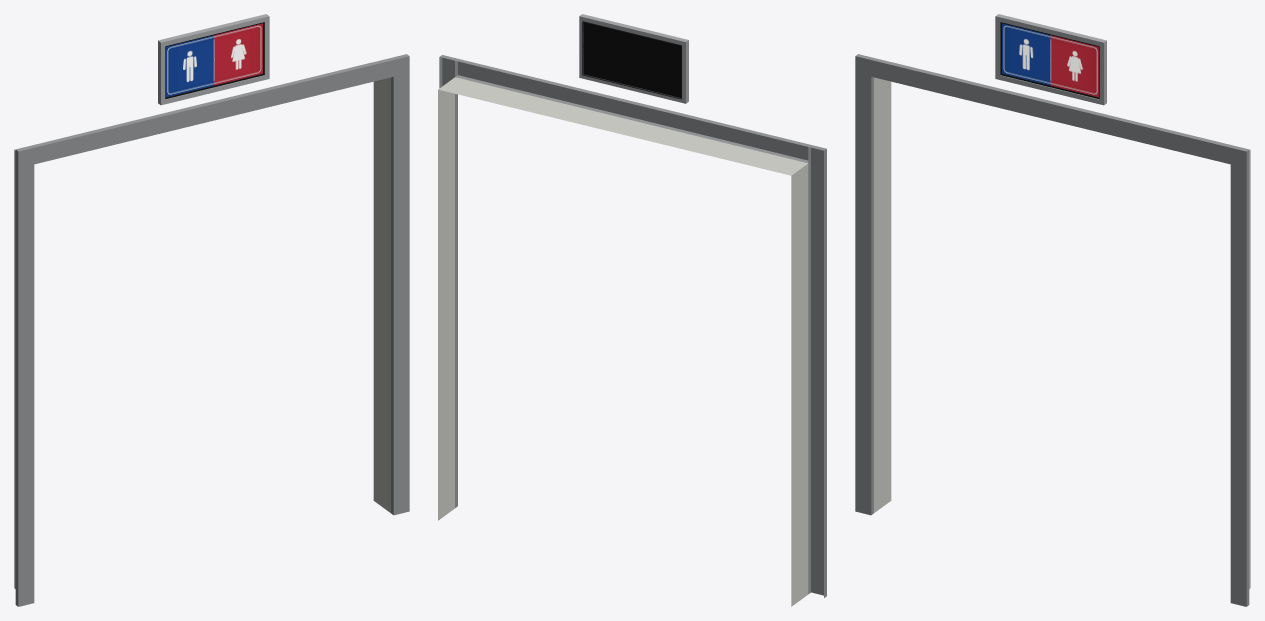
Rendered from gteki_toilet_entrance_pair.glb.
3 renders of one model, left to right at view 1: azimuth 30°, elevation 25°; view 2: azimuth 150°, elevation 25°; view 3: azimuth 330°, elevation 25°, orthographic.
Visible parts, largest first — view 1: VIS_body; view 2: VIS_body; view 3: VIS_body.
Boxes of the visible parts, left/top/right/bottom form: VIS_body: left=14, top=14, right=409, bottom=606; VIS_body: left=438, top=14, right=826, bottom=606; VIS_body: left=855, top=14, right=1250, bottom=606.
Size of what is drawn, in the model's own units: 1.96 by 2.54 by 0.185.
Materials: 2 (2 with a texture image).
